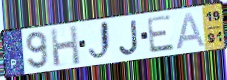9: (24, 30, 49, 70)
A: (175, 11, 208, 51)
E: (145, 13, 177, 55)
H: (49, 23, 82, 68)
J: (87, 19, 114, 64), (118, 18, 140, 56)
